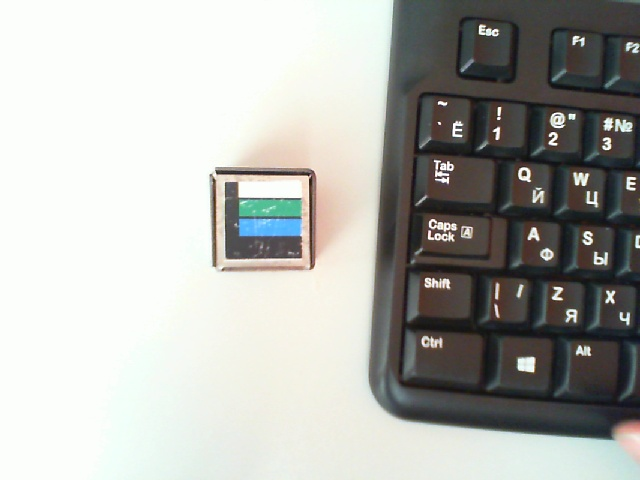square: (222, 180, 304, 261)
